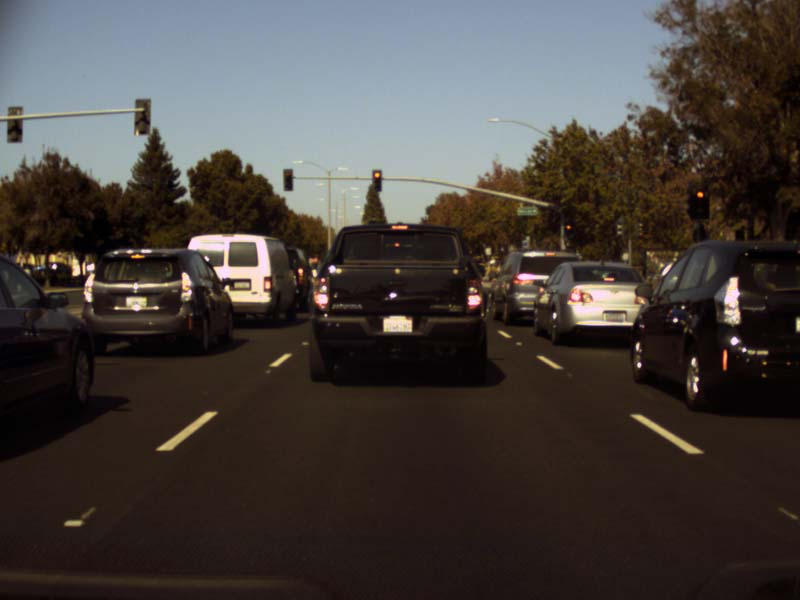Red: (695, 189, 704, 216), (283, 169, 293, 191), (373, 169, 380, 189)
Yellow: (565, 223, 571, 233)
